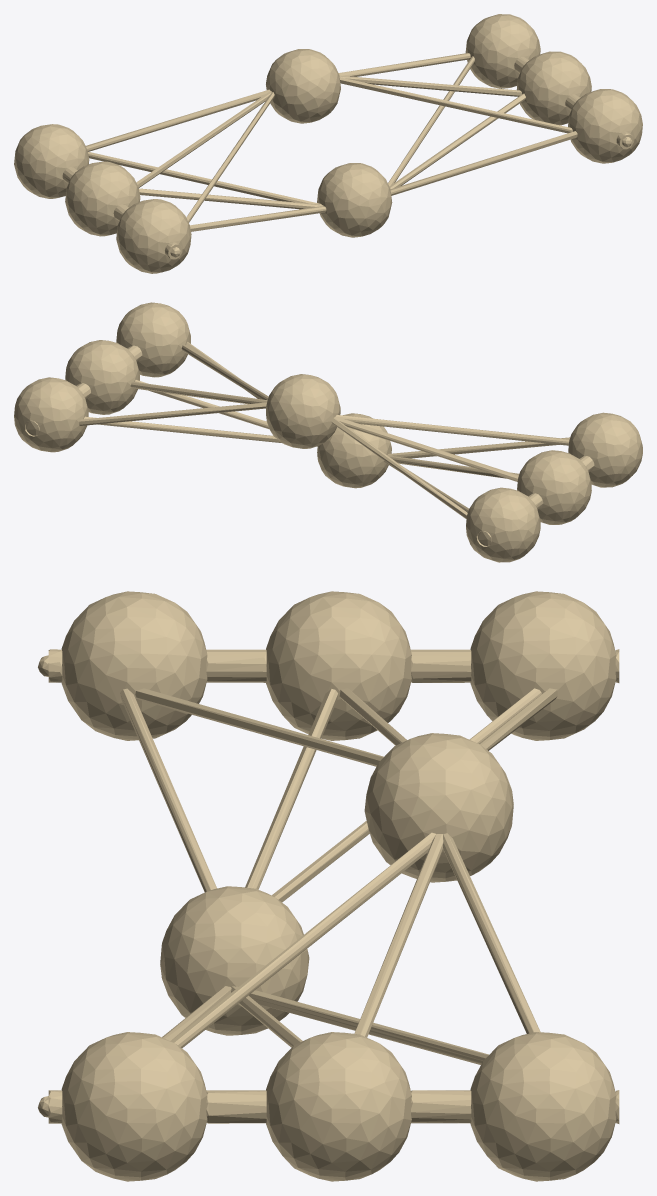
File: deep.glb
3 renders of one model, top to bottom at view 1: azimuth 30°, elevation 25°; view 2: azimuth 150°, elevation 25°; view 3: azimuth 270°, elevation 25°, orthographic. The views are drawn at different scales.
Parts seen in each view (by area): view 1: neural_network_statue_gold_object_neural_network_statue_gold; view 2: neural_network_statue_gold_object_neural_network_statue_gold; view 3: neural_network_statue_gold_object_neural_network_statue_gold.
Part boxes in pixels (x1,y1,x2,y2): neural_network_statue_gold_object_neural_network_statue_gold: (14, 14, 642, 273); neural_network_statue_gold_object_neural_network_statue_gold: (14, 302, 642, 562); neural_network_statue_gold_object_neural_network_statue_gold: (38, 591, 619, 1181).
Size of the model in its own units: 303 by 80.8 by 148.
